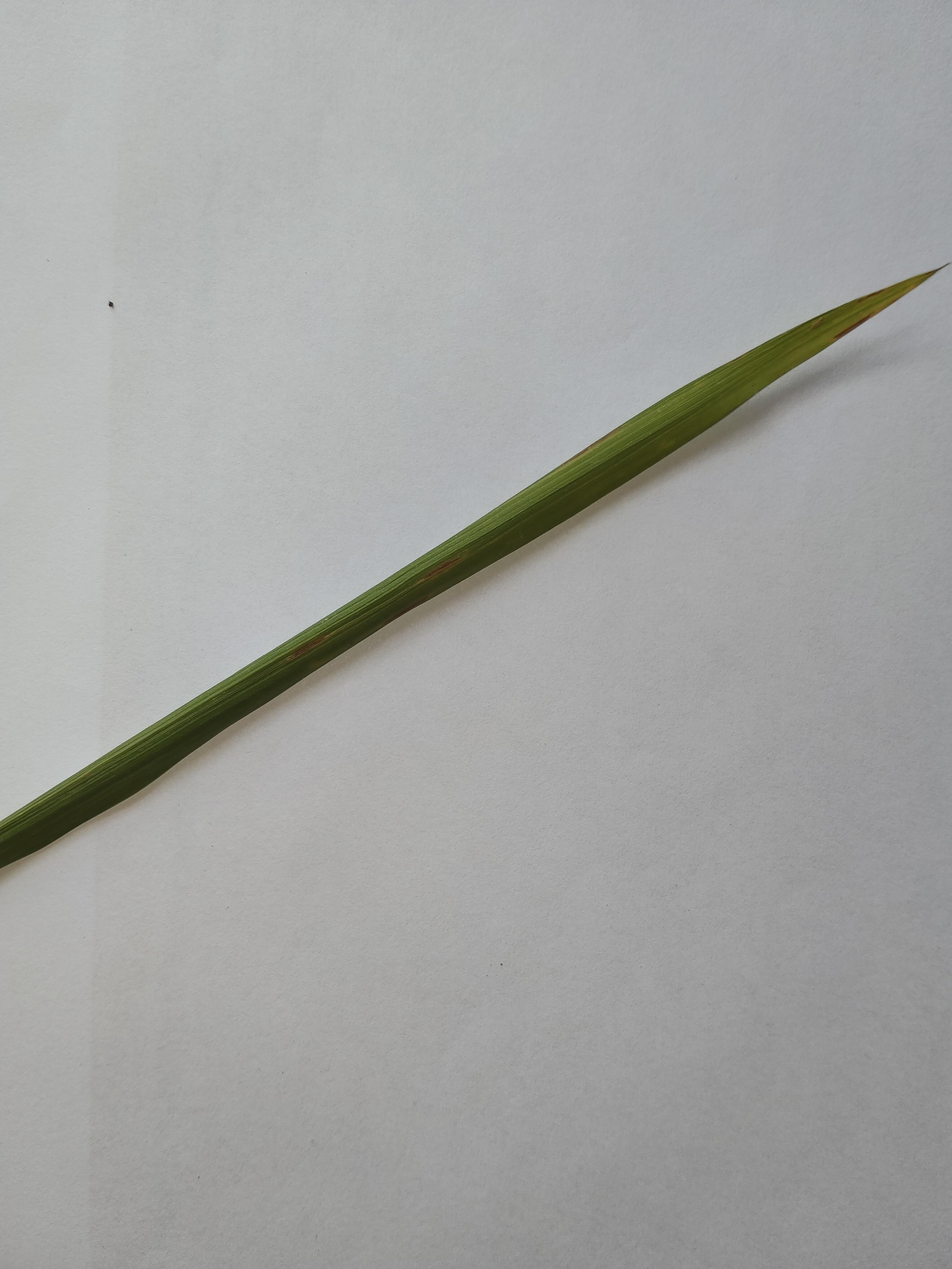NBS: (555, 425, 623, 469), (381, 596, 429, 627), (284, 633, 328, 661), (417, 557, 462, 582), (834, 313, 873, 339), (856, 290, 883, 303), (927, 272, 932, 275)
